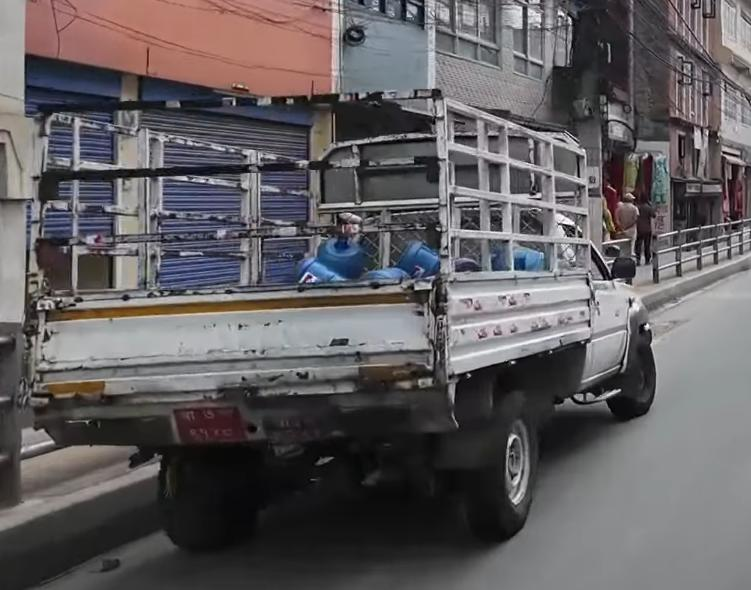transport_vehicle: (0, 83, 668, 573)
